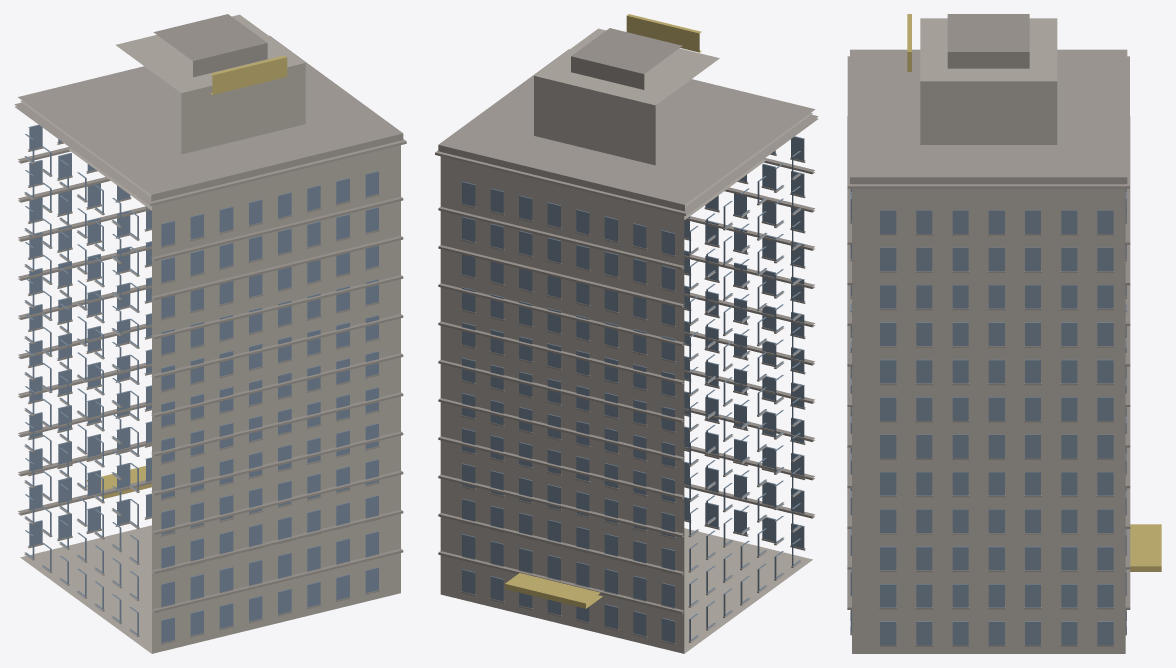
Rendered from hotel_tower.glb.
The picture shows the model from 3 angles, left to right: view 1: azimuth 30°, elevation 25°; view 2: azimuth 150°, elevation 25°; view 3: azimuth 270°, elevation 25°; orthographic projection. The views are drawn at different scales.
Parts seen in each view (by area): view 1: hotel_tower; view 2: hotel_tower; view 3: hotel_tower.
Boxes of the visible parts, box(x1,y1,x2,y2) form: hotel_tower: box(14, 14, 406, 653); hotel_tower: box(435, 14, 818, 653); hotel_tower: box(847, 14, 1161, 653).
Bounding box in the file's own units: 24.7 × 49.5 × 25.27.
